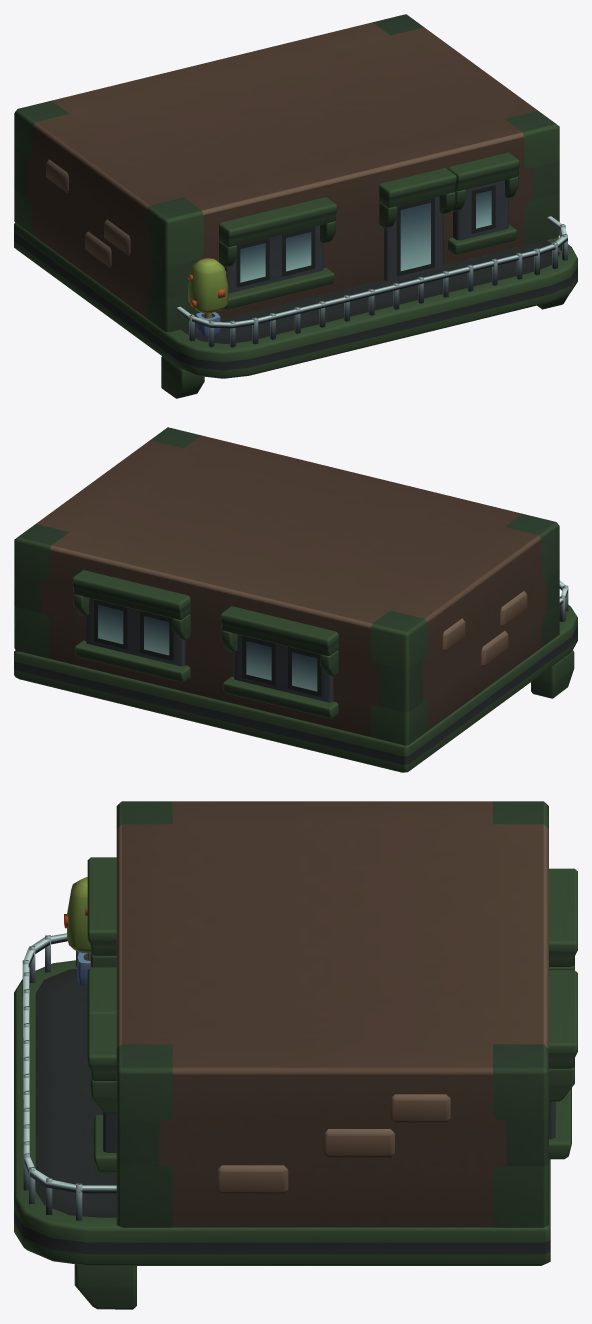
Rendered from appartment_type1_x6_balcony_brown.fbx.
3 views of the same model, one above another, from view 1: azimuth 30°, elevation 25°; view 2: azimuth 150°, elevation 25°; view 3: azimuth 270°, elevation 25° (orthographic). The views are drawn at different scales.
Parts seen in each view (by area): view 1: appartment_type1_x6_balcony_brown; view 2: appartment_type1_x6_balcony_brown; view 3: appartment_type1_x6_balcony_brown.
Part boxes in pixels (left/top/right/bottom): appartment_type1_x6_balcony_brown: left=14, top=14, right=577, bottom=398; appartment_type1_x6_balcony_brown: left=14, top=427, right=577, bottom=772; appartment_type1_x6_balcony_brown: left=14, top=801, right=577, bottom=1309.
Size of the model in its own units: 1219 by 505 by 1056.
